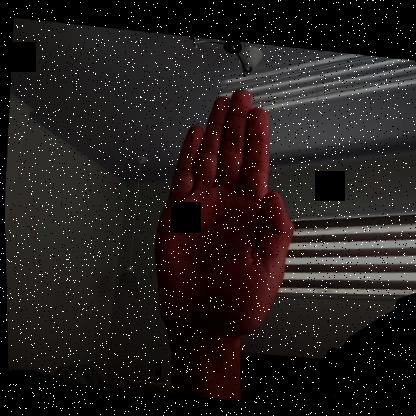B: (143, 78, 306, 344)
